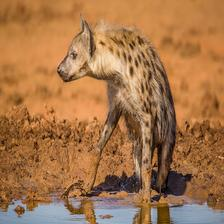hyena: (55, 13, 189, 224)
